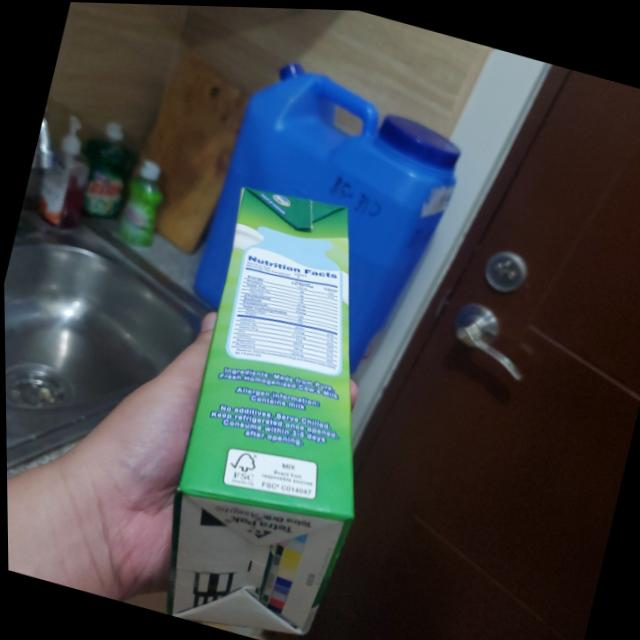milk: (139, 172, 434, 640)
